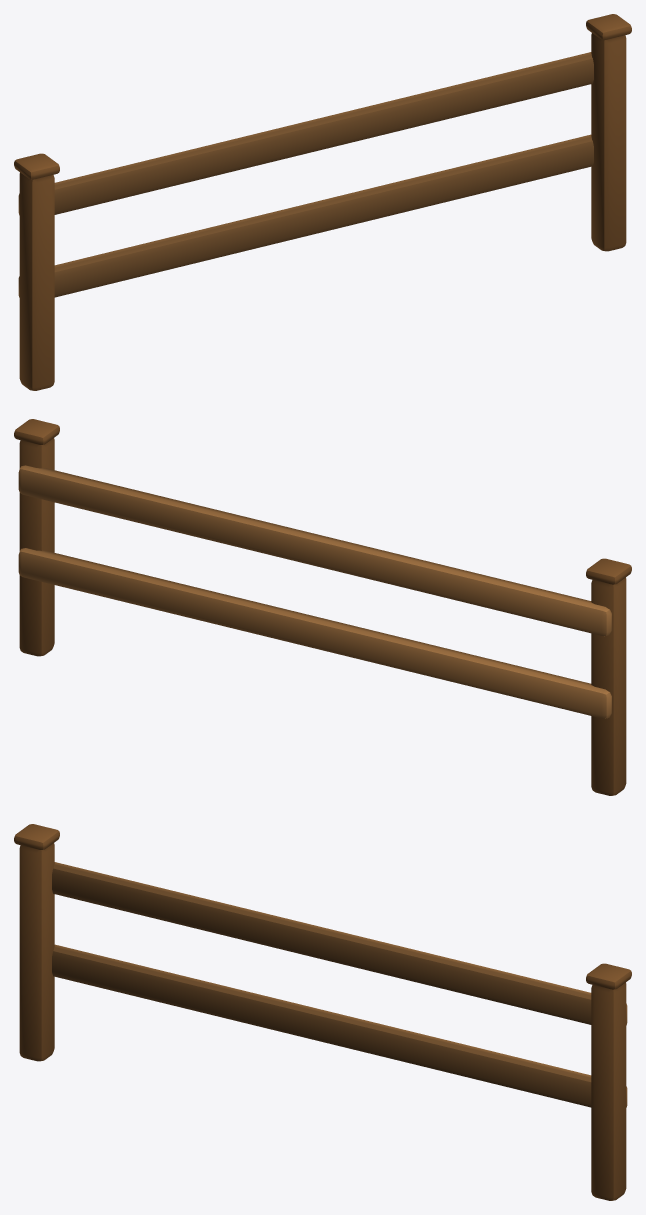
The model's file is vl_fence.glb.
3 renders of one model, top to bottom at view 1: azimuth 30°, elevation 25°; view 2: azimuth 150°, elevation 25°; view 3: azimuth 330°, elevation 25°, orthographic.
Visible parts, largest first — view 1: fence; view 2: fence; view 3: fence.
Part boxes in pixels (bbox=[...]): fence: bbox=[14, 14, 631, 390]; fence: bbox=[14, 419, 631, 795]; fence: bbox=[14, 824, 631, 1200].
Bounding box in the file's own units: 3.06 × 1.09 × 0.18.
